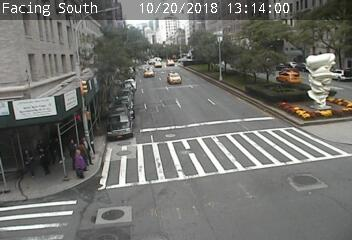car: (108, 107, 132, 140), (167, 72, 182, 84), (144, 68, 154, 77), (166, 59, 175, 66), (154, 61, 162, 68)
